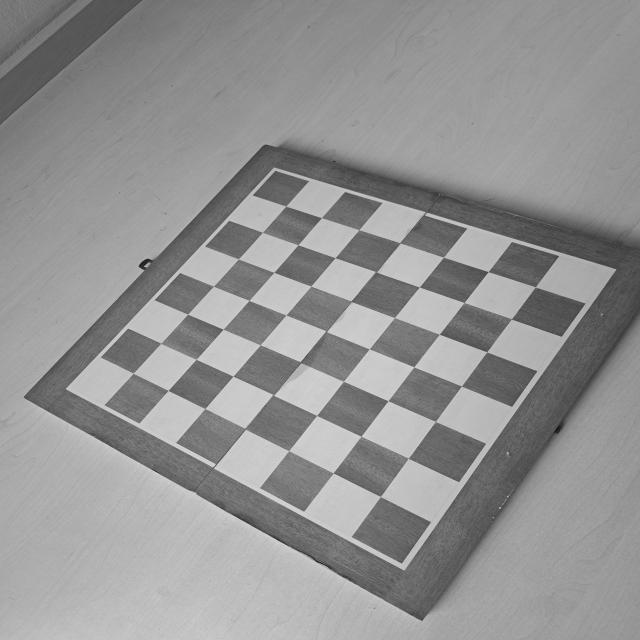chess-table-corners: (383, 548, 416, 574), (589, 259, 622, 283), (260, 163, 289, 181), (62, 380, 82, 396)
